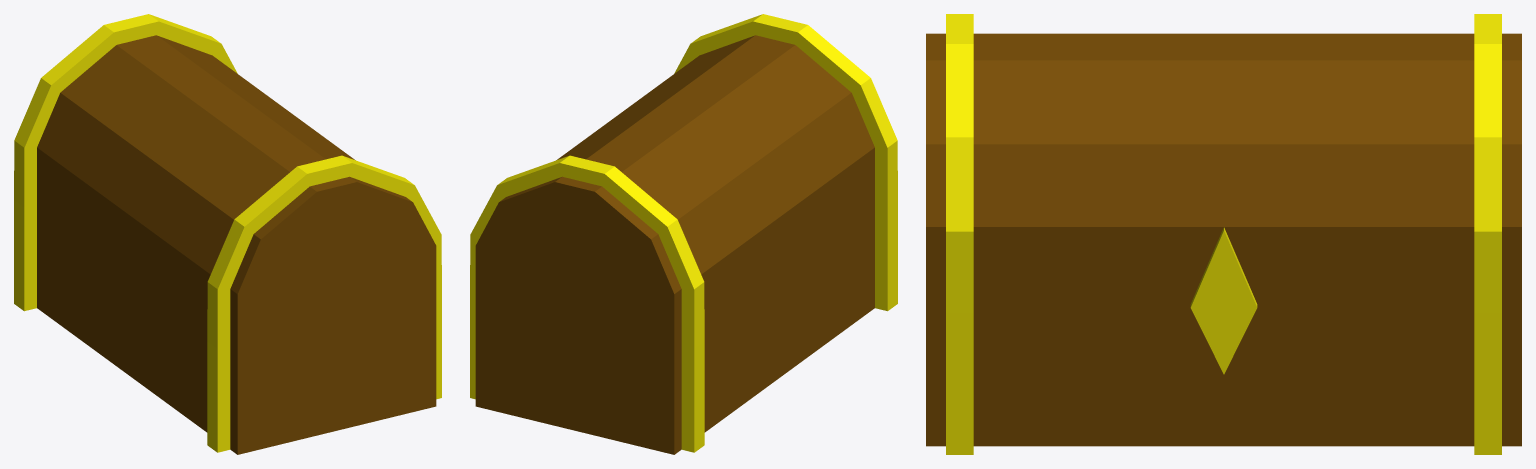
Rendered from TrapChest.glb.
3 views of the same model, side by side, from view 1: azimuth 30°, elevation 25°; view 2: azimuth 150°, elevation 25°; view 3: azimuth 270°, elevation 25° (orthographic). The views are drawn at different scales.
Visible parts, largest first — view 1: ChestLid, ChestBase; view 2: ChestLid, ChestBase; view 3: ChestLid, ChestBase.
Part boxes in pixels (x1,y1,x2,y2): ChestLid: [14, 14, 441, 350]; ChestBase: [14, 200, 441, 454]; ChestLid: [470, 14, 897, 350]; ChestBase: [470, 200, 897, 454]; ChestLid: [926, 14, 1521, 374]; ChestBase: [926, 304, 1521, 454].
Bounding box in the file's own units: 0.6774 × 0.7413 × 1.14.
